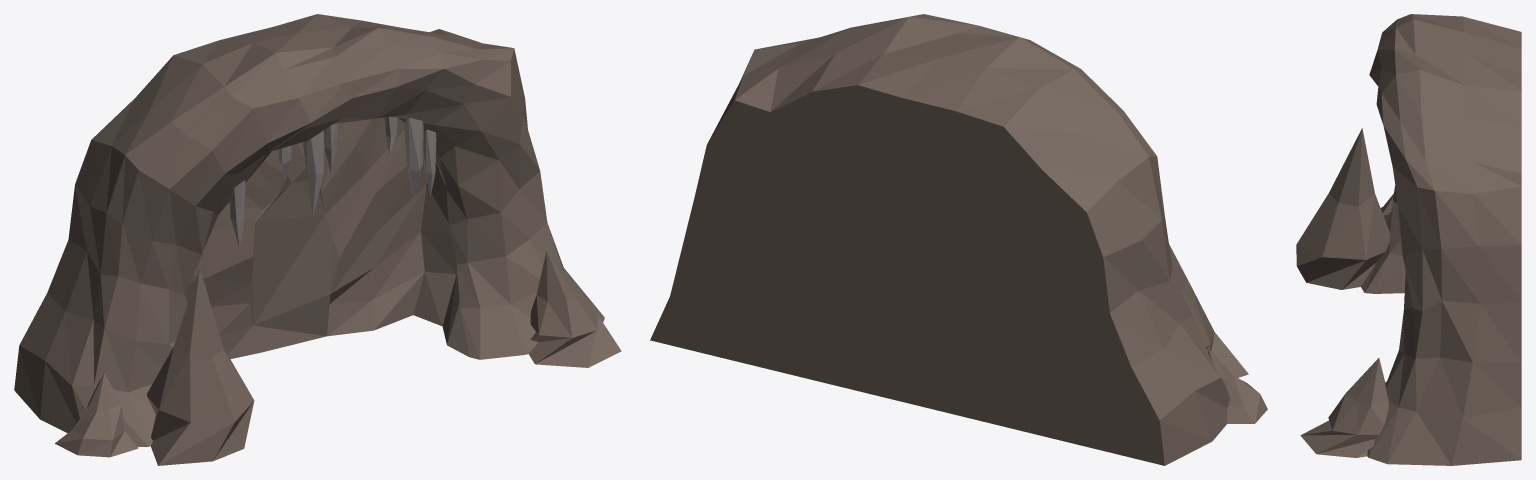
File: stage4_cave_overhang_arch.glb
3 renders of one model, left to right at view 1: azimuth 30°, elevation 25°; view 2: azimuth 150°, elevation 25°; view 3: azimuth 270°, elevation 25°, orthographic. The views are drawn at different scales.
Visible parts, largest first — view 1: arch-rock; view 2: arch-rock; view 3: arch-rock.
Boxes of the visible parts, x1,y1,x2,y2 form: arch-rock: [14, 14, 621, 465]; arch-rock: [650, 14, 1267, 465]; arch-rock: [1296, 14, 1521, 465].
Bounding box in the file's own units: 25.31 × 14.67 × 9.87.
